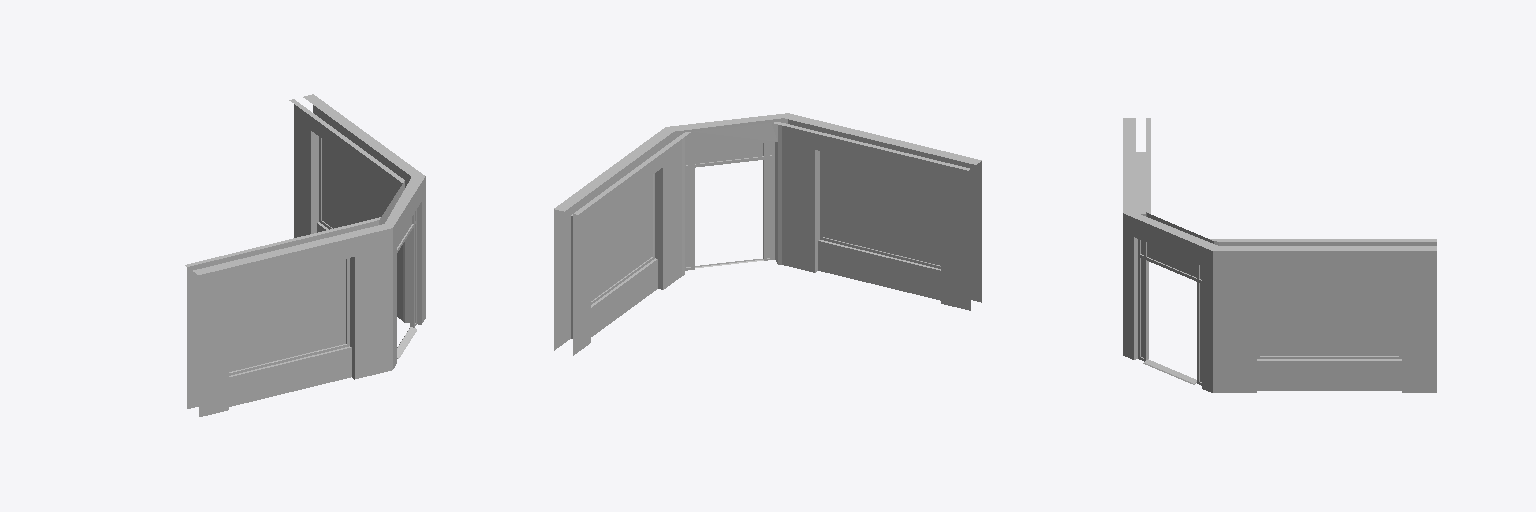
File: Building_Bottom_Corner_B_LOD0.obj
3 renders of one model, left to right at view 1: azimuth 30°, elevation 25°; view 2: azimuth 150°, elevation 25°; view 3: azimuth 270°, elevation 25°, orthographic.
Visible parts, largest first — view 1: Building_Bottom_Corner_B_LOD0 Building_Bottom_Corner_B; view 2: Building_Bottom_Corner_B_LOD0 Building_Bottom_Corner_B; view 3: Building_Bottom_Corner_B_LOD0 Building_Bottom_Corner_B.
Boxes of the visible parts, box(x1,y1,x2,y2) form: Building_Bottom_Corner_B_LOD0 Building_Bottom_Corner_B: box(185, 94, 425, 416); Building_Bottom_Corner_B_LOD0 Building_Bottom_Corner_B: box(554, 113, 981, 355); Building_Bottom_Corner_B_LOD0 Building_Bottom_Corner_B: box(1123, 118, 1436, 392).
Size of the model in its own units: 700 by 350 by 700.